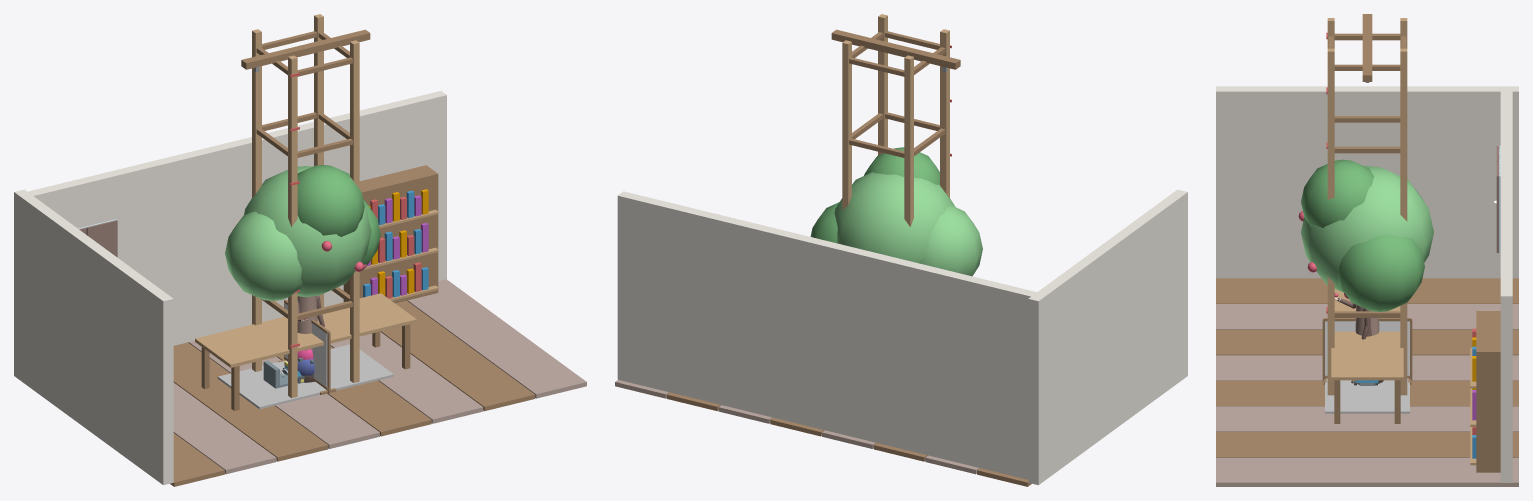
The model's file is newton.glb.
3 renders of one model, left to right at view 1: azimuth 30°, elevation 25°; view 2: azimuth 150°, elevation 25°; view 3: azimuth 270°, elevation 25°, orthographic.
Visible parts, largest first — view 1: room_wall, room_wall_l, room_board7, tree_crown0, table_top, room_board2, room_board6, tree_crown2, room_shelf, room_board5, room_board1, tree_crown3 (+12 smaller); view 2: room_wall, room_wall_l, tree_crown0, tree_crown2, tower_post3, tower_post2, tower_arm, tower_post0, tree_crown3, tower_post1, tree_crown1; view 3: room_wall_l, room_board7, room_board6, tree_crown0, room_board5, room_board0, tree_crown1, room_wall, room_board1, room_board4, room_board2, room_board3 (+14 smaller).
Boxes of the visible parts, box(x1,y1,x2,y2) form: room_wall: box(28, 91, 446, 345); room_wall_l: box(14, 189, 173, 485); room_board7: box(407, 279, 586, 398); tree_crown0: box(244, 166, 371, 296); table_top: box(195, 293, 416, 367); room_board2: box(173, 342, 328, 461); room_board6: box(380, 300, 535, 411); tree_crown2: box(225, 211, 302, 300); room_shelf: box(343, 165, 438, 303); room_board5: box(330, 332, 483, 423); room_board1: box(173, 382, 276, 474); tree_crown3: box(297, 165, 364, 236); room_wall: box(617, 191, 1036, 479); room_wall_l: box(1028, 189, 1187, 485); tree_crown0: box(834, 172, 955, 262); tree_crown2: box(918, 205, 982, 276); tower_post3: box(904, 55, 913, 226); tower_post2: box(842, 40, 851, 210); tower_arm: box(831, 29, 960, 69); tower_post0: box(940, 29, 949, 198); tree_crown3: box(864, 147, 939, 184); tower_post1: box(878, 14, 887, 155); tree_crown1: box(810, 202, 839, 243); room_wall_l: box(1216, 86, 1518, 278); room_board7: box(1216, 457, 1518, 486); room_board6: box(1216, 432, 1518, 457); tree_crown0: box(1301, 166, 1433, 292); room_board5: box(1216, 406, 1518, 431); room_board0: box(1216, 278, 1518, 303); tree_crown1: box(1337, 234, 1424, 311); room_wall: box(1500, 91, 1512, 482); room_board1: box(1216, 304, 1518, 329); room_board4: box(1216, 380, 1518, 406); room_board2: box(1216, 329, 1518, 355); room_board3: box(1216, 355, 1518, 380).
Size of the model in its own units: 8.2 by 6.38 by 5.
